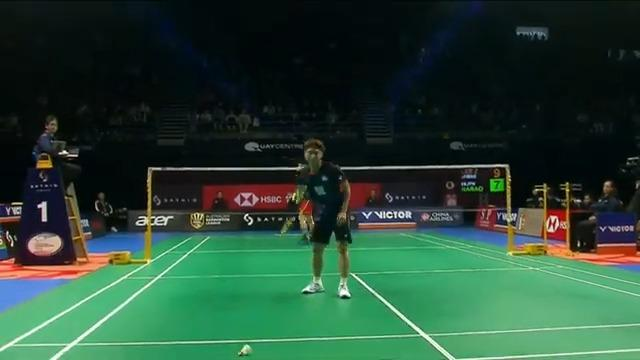Shuttlecock: (234, 342, 256, 360)
